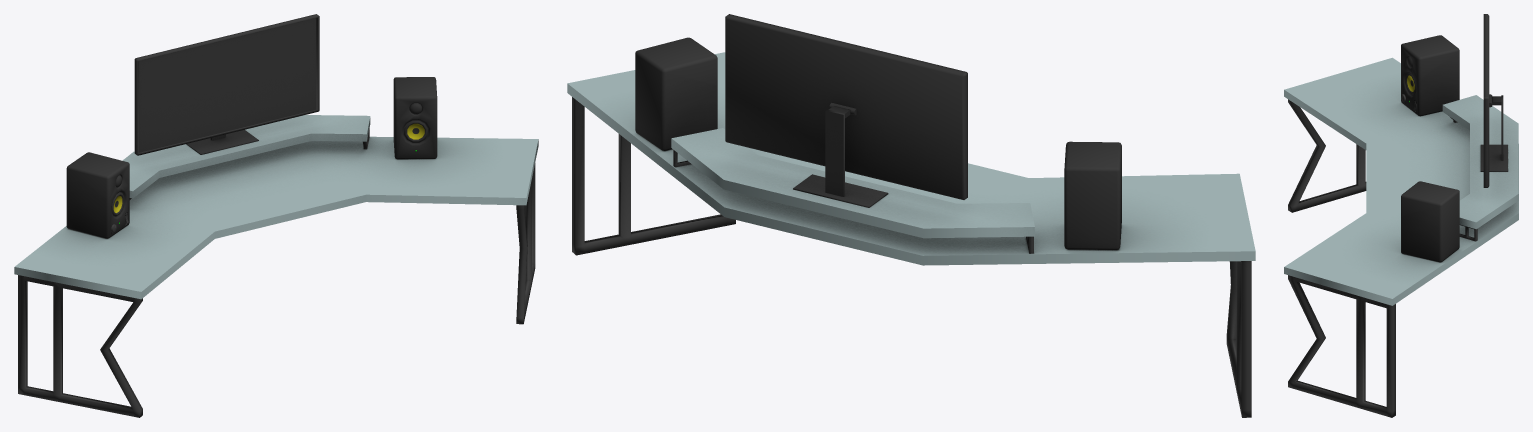
Rendered from DeskNew.gltf.
The picture shows the model from 3 angles, left to right: view 1: azimuth 30°, elevation 25°; view 2: azimuth 150°, elevation 25°; view 3: azimuth 270°, elevation 25°; orthographic projection. The views are drawn at different scales.
Parts seen in each view (by area): view 1: Desk, Monitor, SpeakerLeft, SpeakerRight; view 2: Desk, Monitor, SpeakerRight, SpeakerLeft; view 3: Desk, SpeakerRight, SpeakerLeft, Monitor.
Part boxes in pixels (<box>): Desk: <box>14,115,538,417</box>; Monitor: <box>134,14,319,155</box>; SpeakerLeft: <box>66,152,129,238</box>; SpeakerRight: <box>393,77,437,159</box>; Desk: <box>567,52,1255,417</box>; Monitor: <box>725,14,967,207</box>; SpeakerRight: <box>635,37,717,150</box>; SpeakerLeft: <box>1064,141,1121,249</box>; Desk: <box>1284,57,1518,417</box>; SpeakerRight: <box>1401,181,1459,262</box>; SpeakerLeft: <box>1401,35,1459,116</box>; Monitor: <box>1480,14,1507,187</box>.
Bounding box in the file's own units: 88.69 × 41.66 × 36.45.
Materials: 7 (6 with a texture image).
